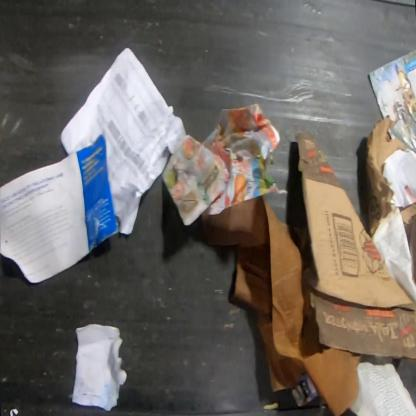cardboard: (204, 195, 364, 415), (297, 132, 416, 360), (366, 115, 408, 238), (399, 202, 416, 246), (408, 212, 415, 289)
